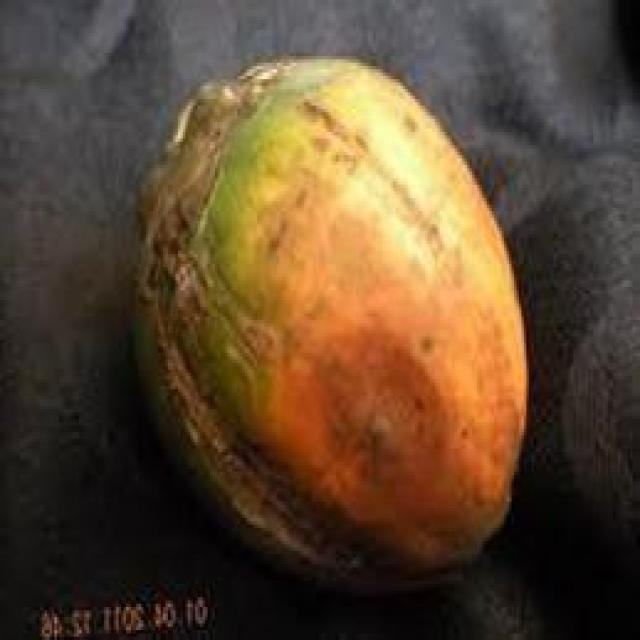good: (128, 56, 531, 600)
